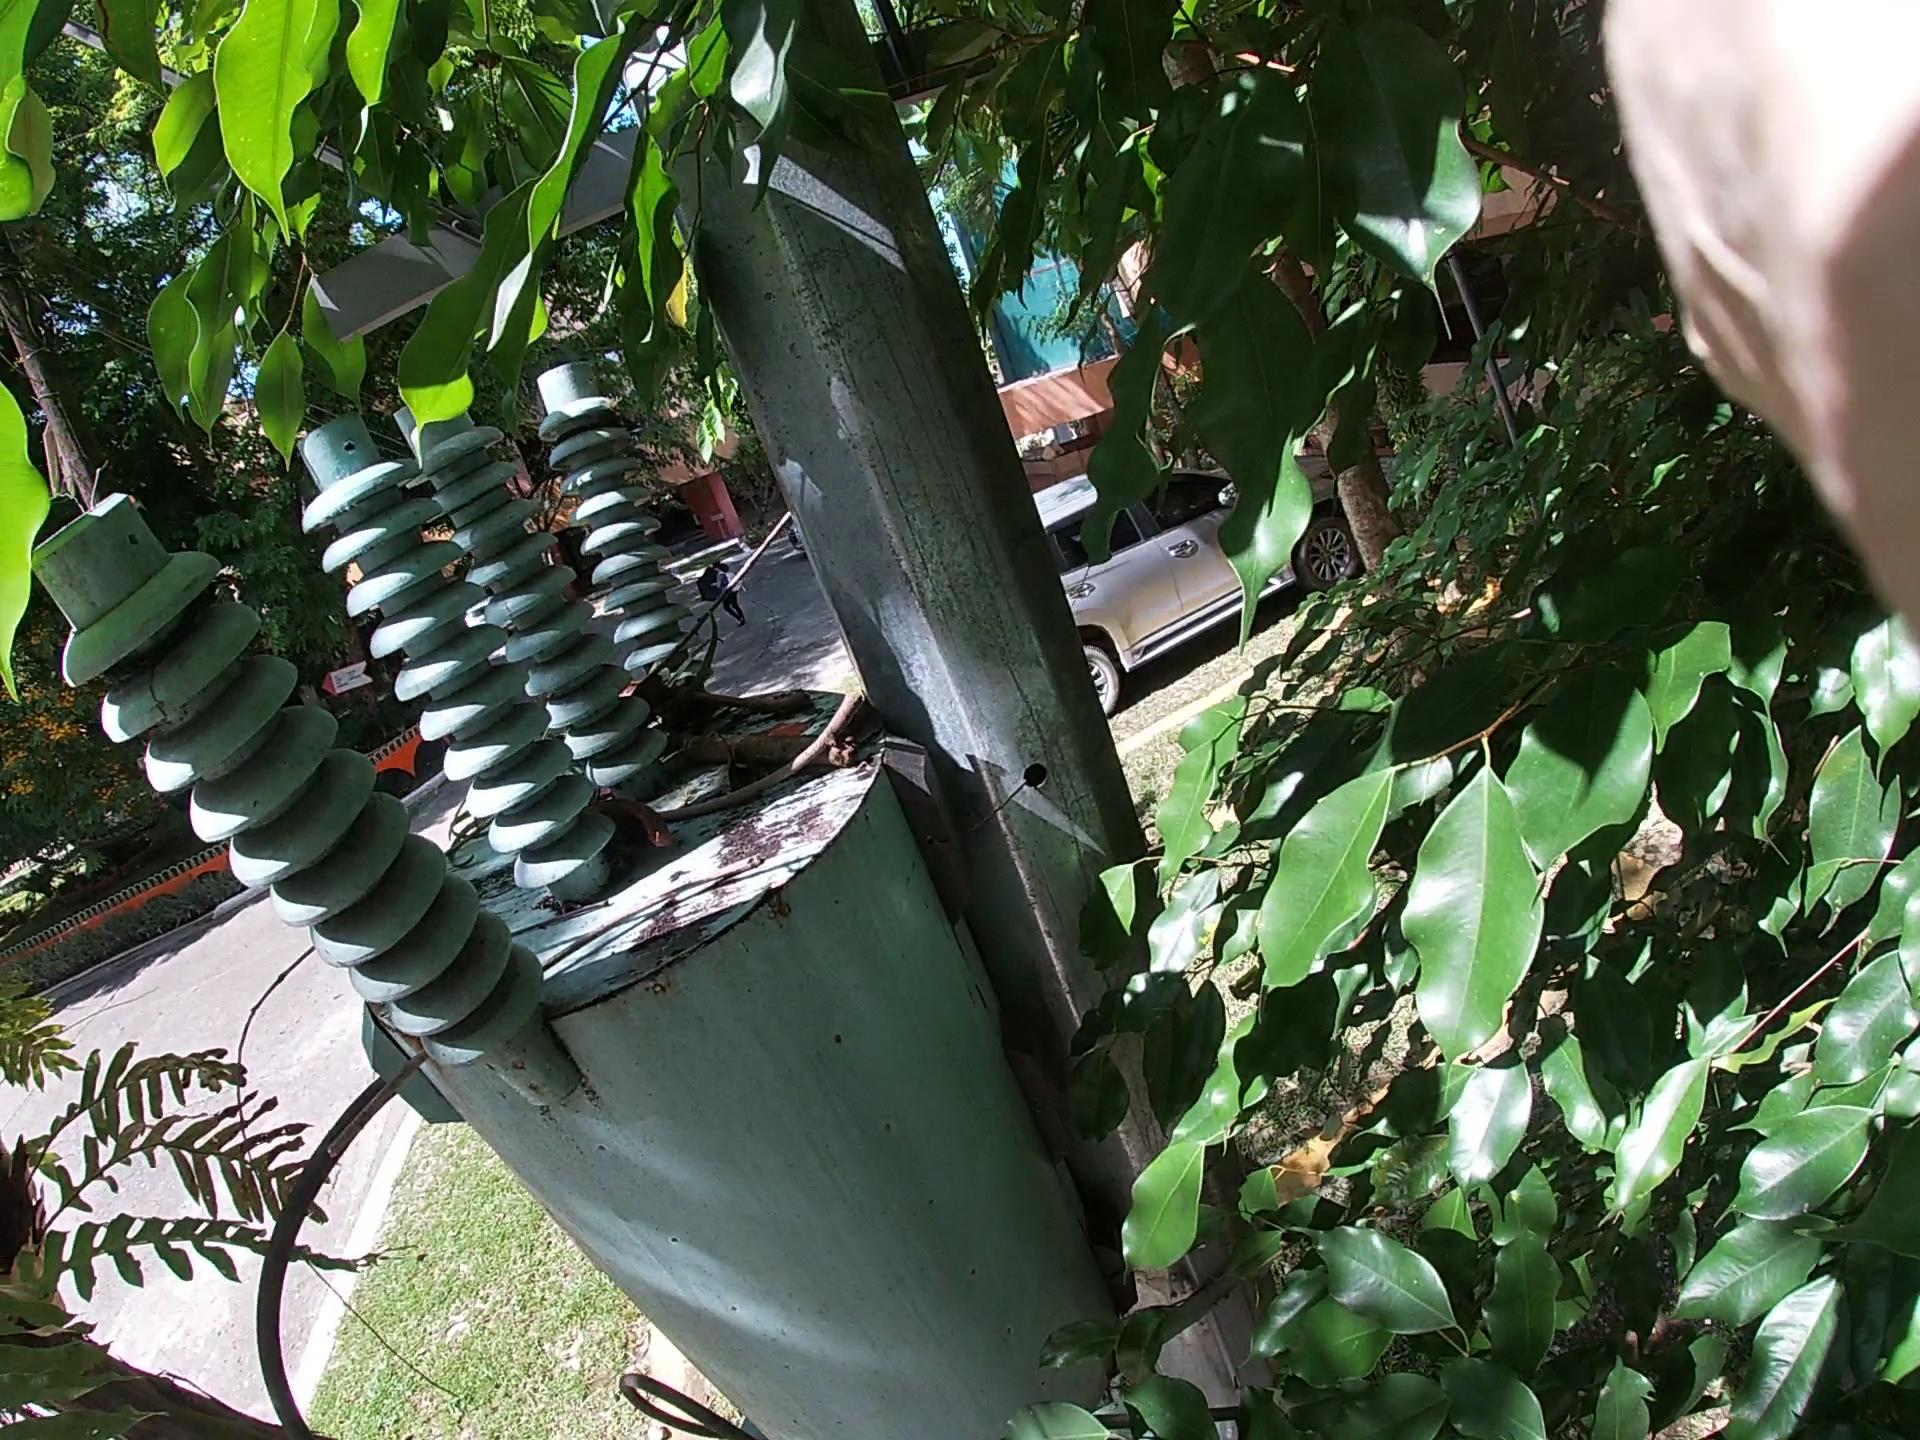branch with leaves: (608, 427, 848, 746)
leaf: (703, 658, 874, 762)
mahogany fruit: (605, 797, 703, 902)
tree branch: (12, 517, 779, 1324), (333, 697, 1020, 1221), (593, 597, 1063, 796)
